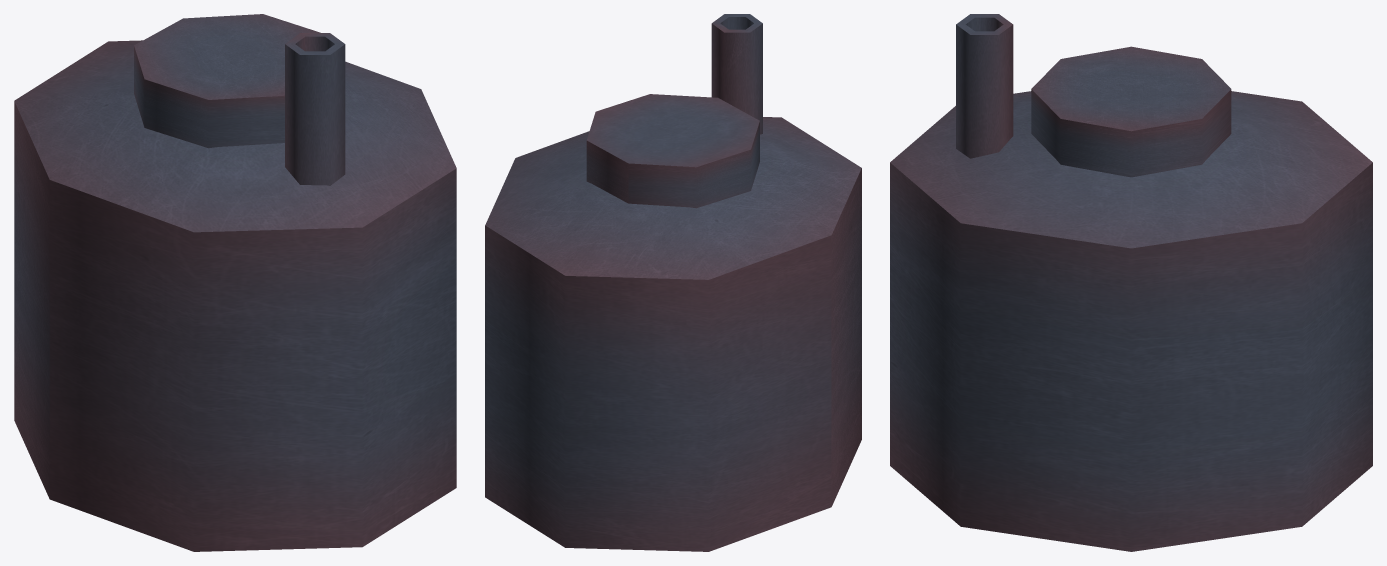
Rendered from tank2.FBX.
3 views of the same model, side by side, from view 1: azimuth 30°, elevation 25°; view 2: azimuth 150°, elevation 25°; view 3: azimuth 270°, elevation 25° (orthographic). The views are drawn at different scales.
Visible parts, largest first — view 1: OilTank001, Cylinder003, Tube001; view 2: OilTank001, Cylinder003, Tube001; view 3: OilTank001, Cylinder003, Tube001.
Part boxes in pixels (<box>): OilTank001: <box>14,40,456,551</box>; Cylinder003: <box>134,14,320,148</box>; Tube001: <box>285,33,345,185</box>; OilTank001: <box>485,117,861,551</box>; Cylinder003: <box>586,94,759,208</box>; Tube001: <box>711,14,762,134</box>; OilTank001: <box>890,91,1372,551</box>; Cylinder003: <box>1031,46,1231,177</box>; Tube001: <box>956,14,1013,158</box>.
Size of the model in its own units: 4.74 by 5.68 by 5.62.
1 material, 1 textured.
